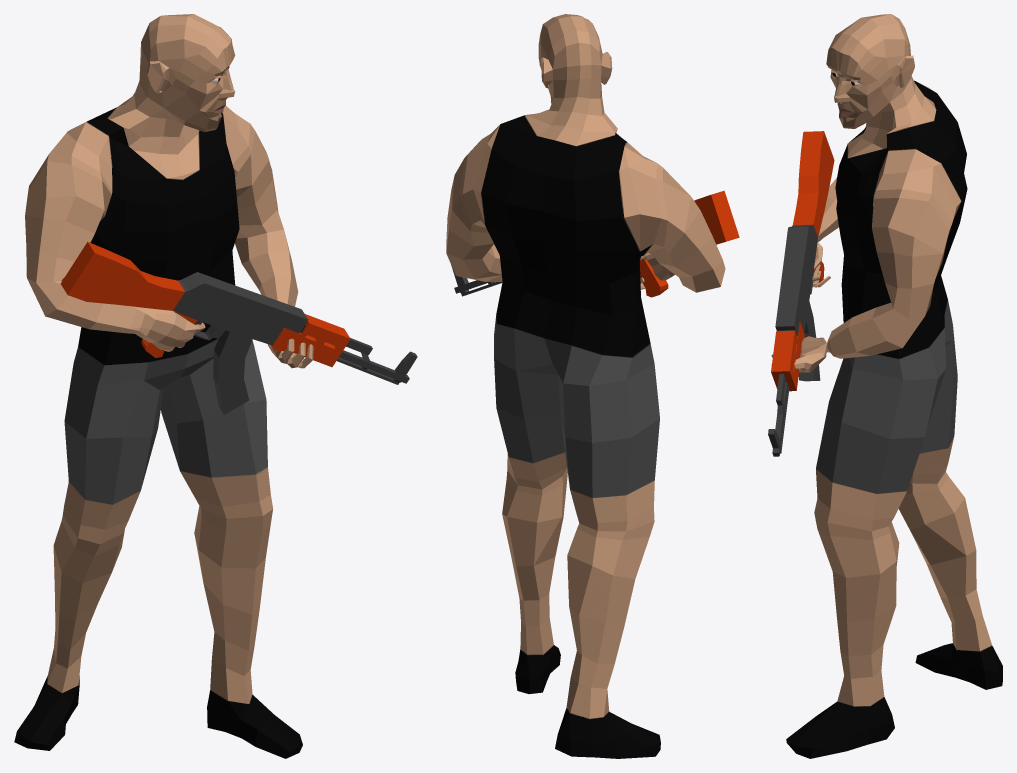
Rendered from PlayerIdle(121).obj.
3 renders of one model, left to right at view 1: azimuth 30°, elevation 25°; view 2: azimuth 150°, elevation 25°; view 3: azimuth 270°, elevation 25°, orthographic. The views are drawn at different scales.
Parts seen in each view (by area): view 1: Plane002, Object001; view 2: Plane002, Object001; view 3: Plane002, Object001.
Boxes of the visible parts, <box> form: Plane002: <box>14,14,313,758</box>; Object001: <box>60,241,417,414</box>; Plane002: <box>446,14,725,758</box>; Object001: <box>451,190,739,297</box>; Plane002: <box>771,14,1002,758</box>; Object001: <box>768,131,834,456</box>.
Bounding box in the file's own units: 867 × 1800 × 547.
